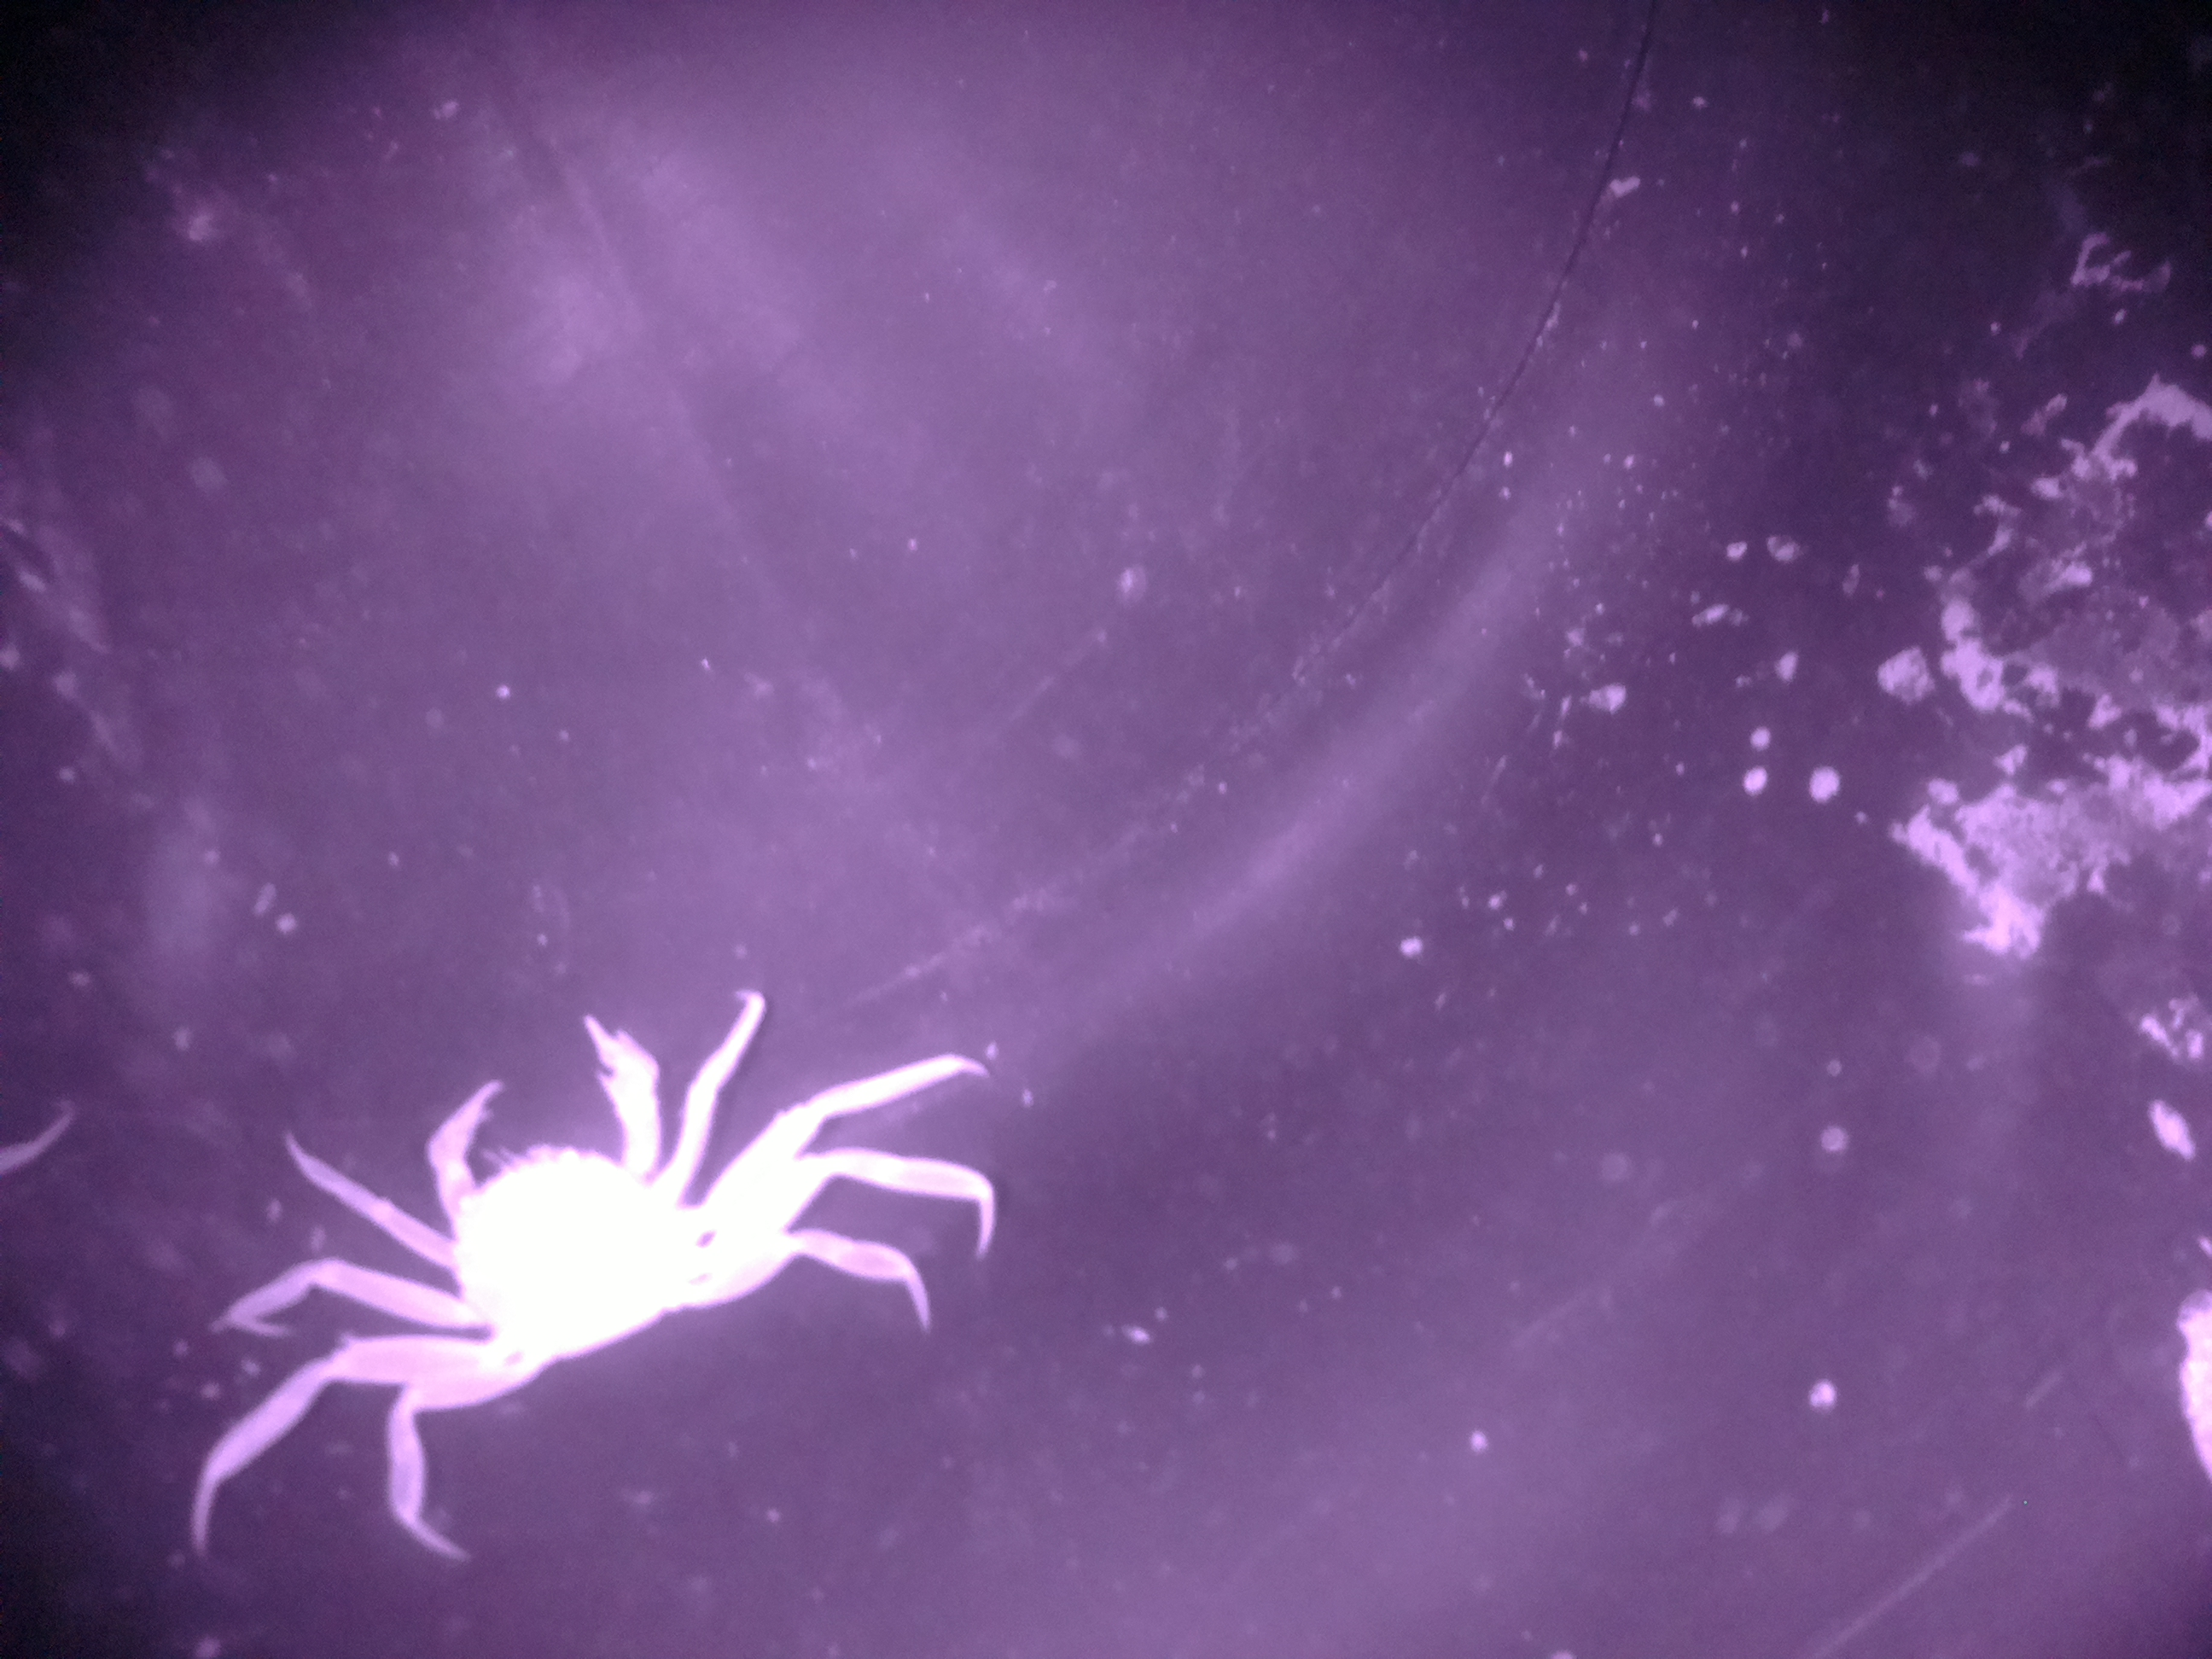Crab: (348, 1000, 833, 1464)
